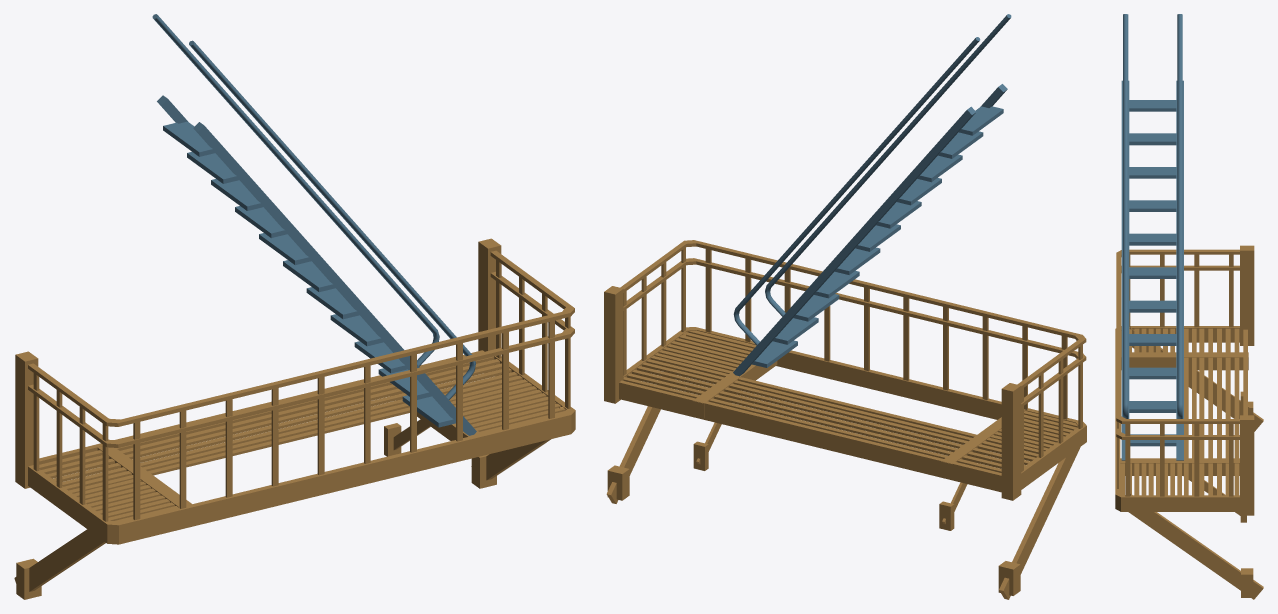
File: Fire_Escape.fbx
3 views of the same model, side by side, from view 1: azimuth 30°, elevation 25°; view 2: azimuth 150°, elevation 25°; view 3: azimuth 270°, elevation 25° (orthographic). The views are drawn at different scales.
Visible parts, largest first — view 1: Platform, Fire_Escape_Stairs; view 2: Platform, Fire_Escape_Stairs; view 3: Platform, Fire_Escape_Stairs.
Boxes of the visible parts, x1,y1,x2,y2 form: Platform: (14, 238, 575, 599); Fire_Escape_Stairs: (152, 14, 476, 435); Platform: (604, 240, 1086, 599); Fire_Escape_Stairs: (733, 14, 1011, 376); Platform: (1115, 245, 1263, 599); Fire_Escape_Stairs: (1121, 14, 1183, 460).
Bounding box in the file's own units: 632 × 227 × 758.
